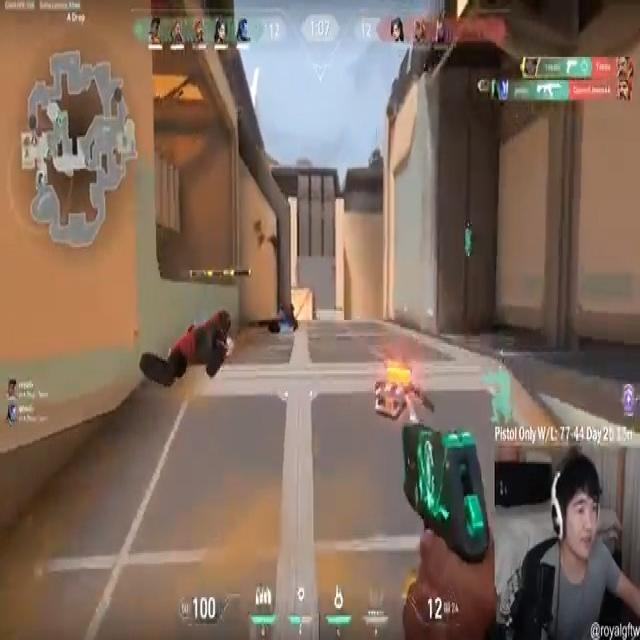ally behind wall: (487, 362, 515, 432), (464, 226, 472, 257)
